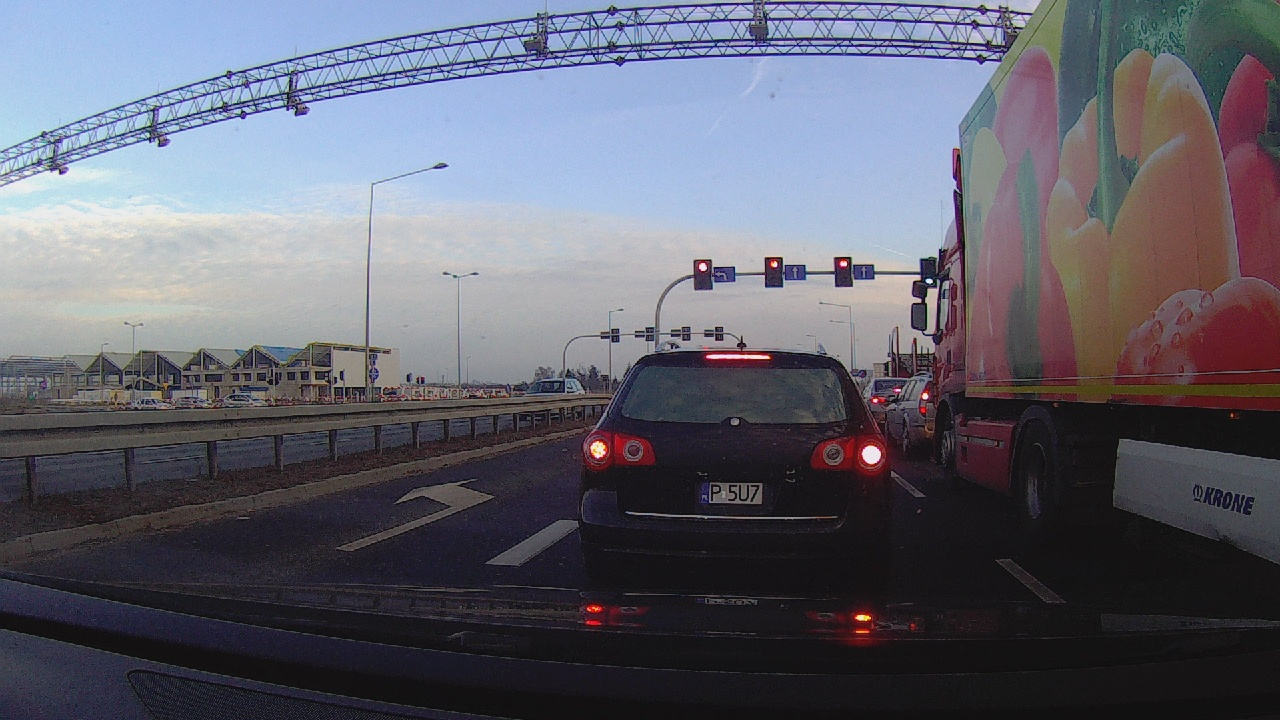Green: (923, 260, 934, 286)
Red: (767, 257, 781, 287), (697, 260, 709, 289), (838, 258, 849, 285)
